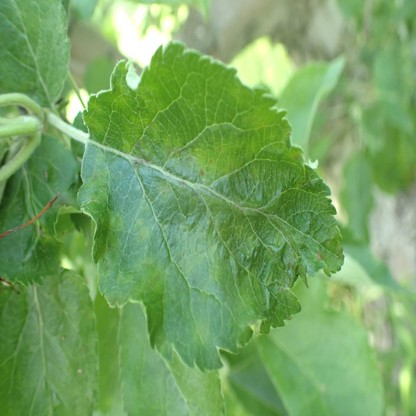frogeye_leaf_spot: (317, 251, 323, 260)
scab: (88, 170, 122, 278), (191, 144, 239, 181), (127, 259, 165, 300), (122, 118, 158, 159), (236, 275, 256, 325), (189, 321, 209, 341), (135, 219, 149, 244), (157, 175, 170, 198), (209, 264, 223, 284)
